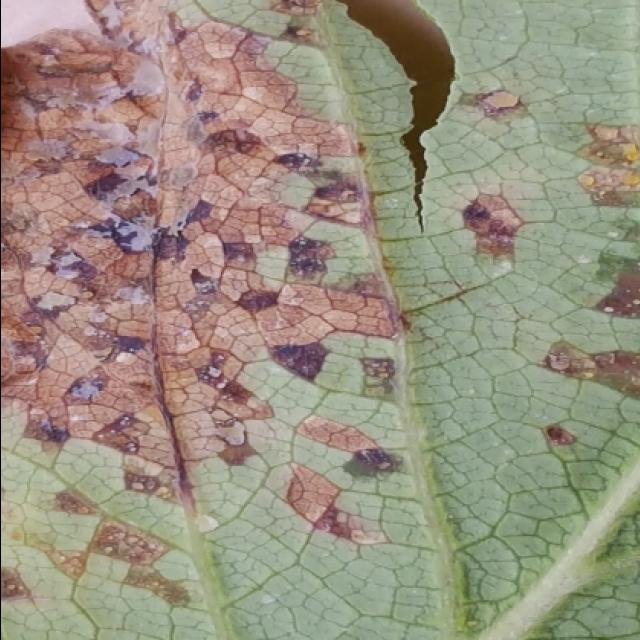Angular Leafspot: (2, 0, 640, 614)
